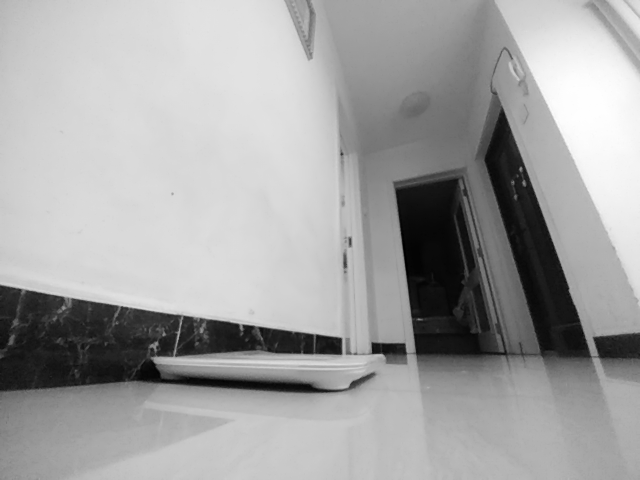scale: (150, 348, 386, 391)
